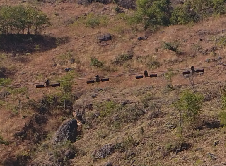damper: (180, 64, 205, 76), (134, 69, 159, 80), (85, 74, 110, 84), (34, 79, 61, 88)
